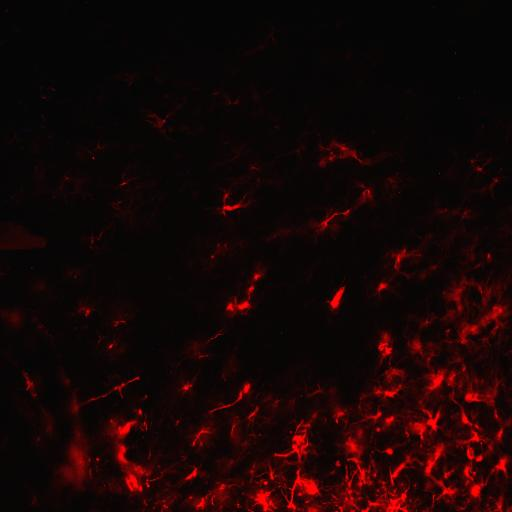microglia: (84, 367, 146, 409), (314, 132, 373, 175), (275, 411, 320, 466), (433, 275, 478, 314), (169, 365, 204, 409), (205, 383, 250, 416), (143, 102, 181, 140), (481, 298, 510, 343), (215, 187, 254, 220), (177, 334, 222, 362), (183, 420, 220, 454), (448, 315, 484, 348), (430, 472, 462, 508), (35, 401, 62, 443), (344, 183, 378, 216), (377, 171, 413, 202), (322, 283, 352, 319), (215, 86, 248, 118), (378, 482, 413, 512), (241, 30, 277, 58), (347, 456, 378, 488), (278, 471, 302, 512), (297, 468, 323, 504), (402, 329, 428, 364), (298, 378, 329, 407), (116, 469, 150, 495), (465, 472, 490, 506), (422, 364, 446, 399), (478, 378, 502, 412), (370, 380, 407, 402), (60, 259, 88, 287), (483, 172, 510, 201), (83, 222, 109, 252), (241, 399, 266, 430), (320, 208, 352, 232), (422, 442, 444, 474), (72, 301, 101, 325), (95, 335, 127, 356), (490, 450, 512, 480), (360, 402, 386, 427), (379, 361, 408, 383), (212, 477, 242, 498), (394, 245, 420, 269), (226, 410, 242, 448), (459, 428, 490, 446), (107, 310, 132, 332), (117, 415, 138, 439), (2, 308, 24, 330), (464, 383, 484, 407), (390, 459, 410, 482), (331, 400, 348, 426), (425, 406, 443, 430), (115, 174, 139, 191), (203, 327, 228, 343), (490, 402, 506, 426), (79, 147, 99, 166), (408, 420, 428, 439), (460, 462, 477, 484), (446, 367, 460, 393), (236, 298, 256, 316), (372, 278, 390, 297), (255, 490, 272, 510), (22, 370, 36, 394), (117, 443, 131, 465), (492, 424, 506, 445), (110, 196, 126, 214), (194, 492, 209, 511), (48, 76, 61, 97), (369, 422, 386, 438), (183, 466, 200, 482), (214, 240, 232, 255), (463, 442, 476, 462), (380, 346, 396, 362), (346, 438, 362, 454), (459, 408, 473, 426), (36, 85, 48, 103), (470, 159, 485, 172), (376, 341, 390, 353), (96, 136, 107, 150), (474, 452, 486, 463), (268, 462, 274, 480), (241, 383, 250, 394), (394, 254, 401, 268), (62, 175, 72, 183), (226, 303, 234, 311), (93, 457, 100, 466), (487, 253, 494, 262), (385, 448, 393, 454), (254, 273, 260, 280), (248, 285, 254, 292), (324, 220, 329, 227), (209, 255, 214, 261), (91, 240, 94, 244)
